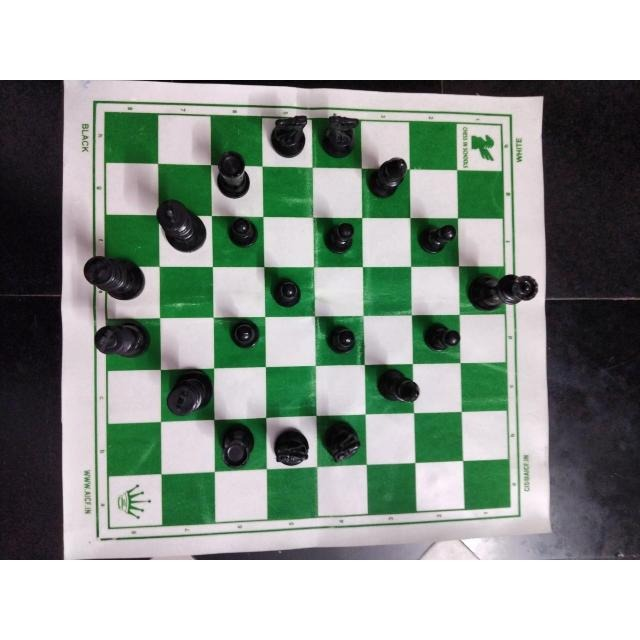black-bishop: (373, 364, 422, 408), (365, 155, 409, 200)
black-king: (80, 251, 148, 303), (152, 196, 209, 254), (88, 319, 154, 361), (164, 369, 214, 416)
black-knight: (320, 111, 362, 163), (270, 421, 314, 470), (267, 113, 310, 161), (321, 416, 363, 465)
black-pawn: (414, 319, 462, 356), (417, 219, 459, 260), (229, 316, 269, 356), (322, 321, 362, 359), (225, 216, 263, 252), (323, 218, 357, 258), (270, 277, 307, 313)
black-queen: (466, 267, 542, 311)
black-rook: (213, 148, 254, 203), (218, 421, 256, 470)
